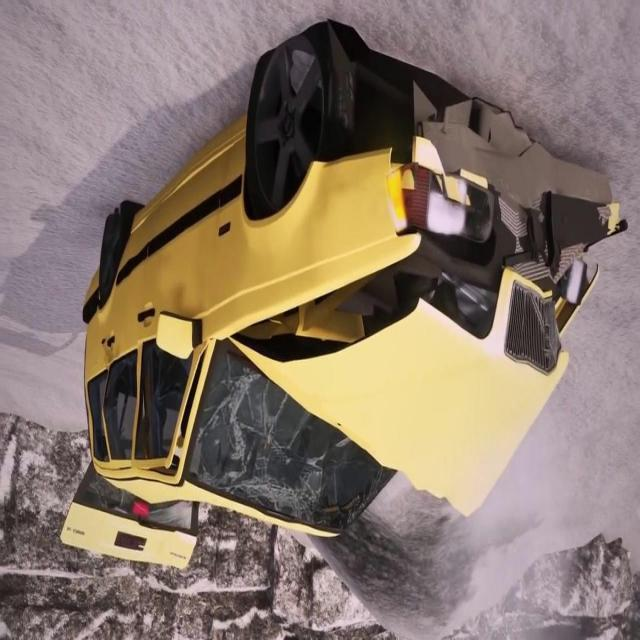severe: (59, 15, 628, 576)
